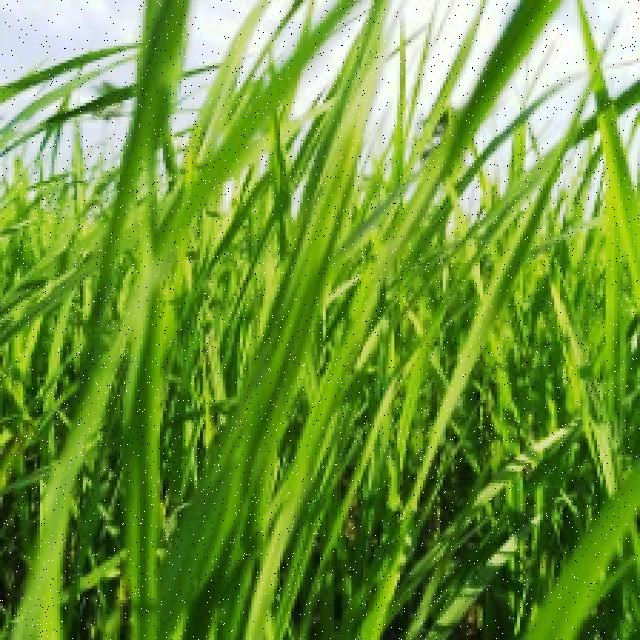health: (111, 248, 322, 640)
